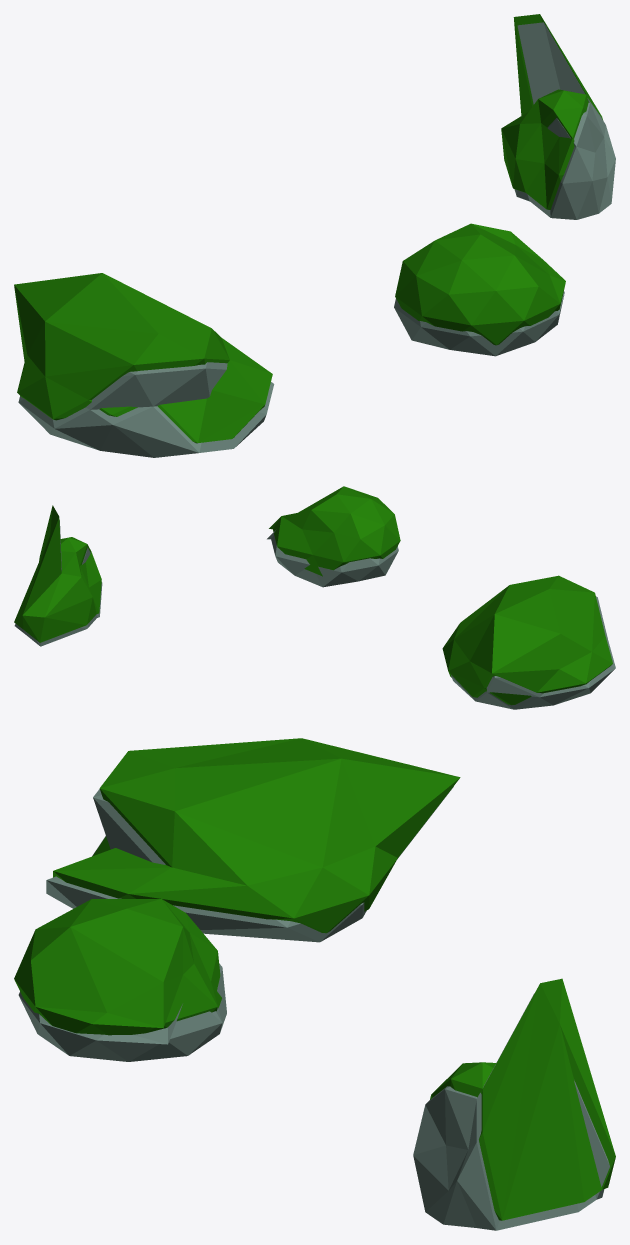
Rendered from mossy rock.fbx.
The picture shows the model from 3 angles, top to bottom: view 1: azimuth 30°, elevation 25°; view 2: azimuth 150°, elevation 25°; view 3: azimuth 270°, elevation 25°; orthographic projection. The views are drawn at different scales.
Visible parts, largest first — view 1: Icosphere.001, Icosphere, Icosphere.002; view 2: Icosphere.001, Icosphere, Icosphere.002; view 3: Icosphere.001, Icosphere.002, Icosphere.
Part boxes in pixels (x1=…): Icosphere.001: x1=14, y1=273, x2=274, y2=457; Icosphere: x1=394, y1=223, x2=565, y2=356; Icosphere.002: x1=501, y1=14, x2=615, y2=219; Icosphere.001: x1=442, y1=575, x2=615, y2=709; Icosphere: x1=267, y1=486, x2=400, y2=587; Icosphere.002: x1=14, y1=505, x2=102, y2=646; Icosphere.001: x1=46, y1=738, x2=460, y2=942; Icosphere.002: x1=413, y1=978, x2=615, y2=1230; Icosphere: x1=14, y1=899, x2=226, y2=1061.
Bounding box in the file's own units: 876 × 243 × 534.
